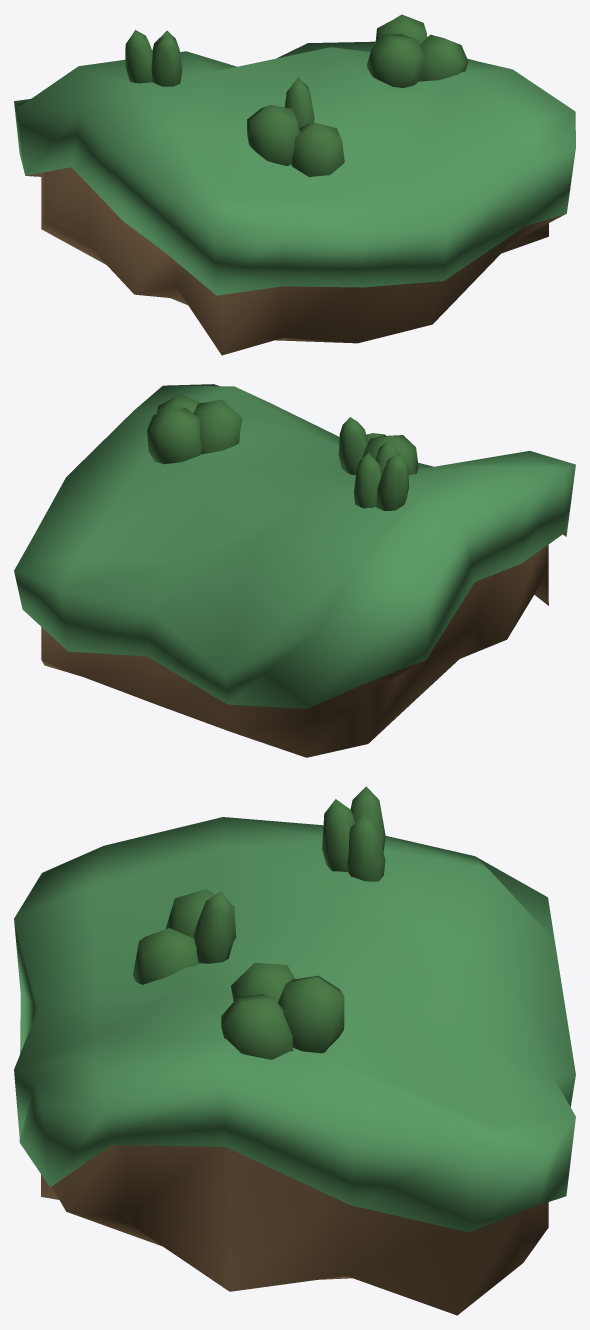
Rendered from island01-4.fbx.
3 renders of one model, top to bottom at view 1: azimuth 30°, elevation 25°; view 2: azimuth 150°, elevation 25°; view 3: azimuth 270°, elevation 25°, orthographic. The views are drawn at different scales.
Visible parts, largest first — view 1: island01-4; view 2: island01-4; view 3: island01-4.
Part boxes in pixels (x1,y1,x2,y2): island01-4: (14, 14, 575, 355); island01-4: (14, 384, 575, 757); island01-4: (14, 786, 575, 1315).
Bounding box in the file's own units: 5542 × 3897 × 5163.
